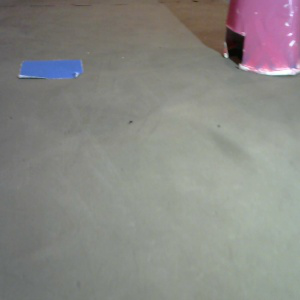right: (221, 1, 300, 76)
